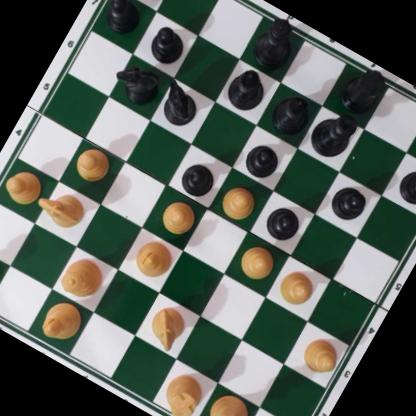black-bishop: (265, 88, 318, 142), (222, 63, 273, 116)
black-king: (303, 103, 363, 166)
black-knight: (109, 57, 164, 108), (153, 77, 206, 129)
black-pawn: (240, 135, 287, 183), (260, 198, 307, 246), (326, 179, 373, 226), (145, 20, 190, 68), (177, 155, 222, 202), (99, 0, 146, 38), (394, 162, 416, 212)
black-queen: (245, 10, 307, 76)
black-rook: (334, 60, 392, 121), (115, 0, 182, 2)
white-bishop: (36, 294, 87, 347), (131, 233, 179, 282)
white-king: (198, 387, 261, 416)
white-knight: (32, 182, 90, 234), (141, 300, 194, 355)
white-pawn: (295, 330, 346, 381), (273, 261, 321, 311), (217, 178, 262, 224), (235, 239, 280, 284), (70, 141, 115, 186), (157, 194, 201, 239), (1, 165, 46, 209)
white-queen: (56, 249, 110, 306)
white-rook: (157, 369, 210, 416), (0, 244, 3, 304)
